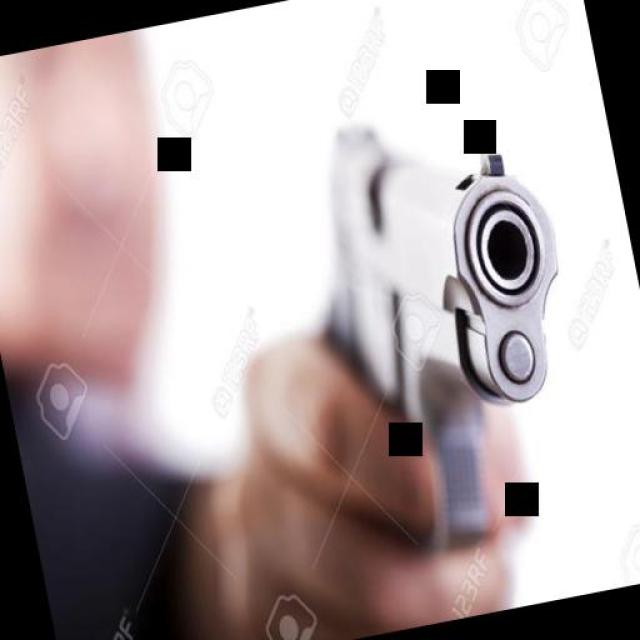gun: (275, 60, 620, 606)
